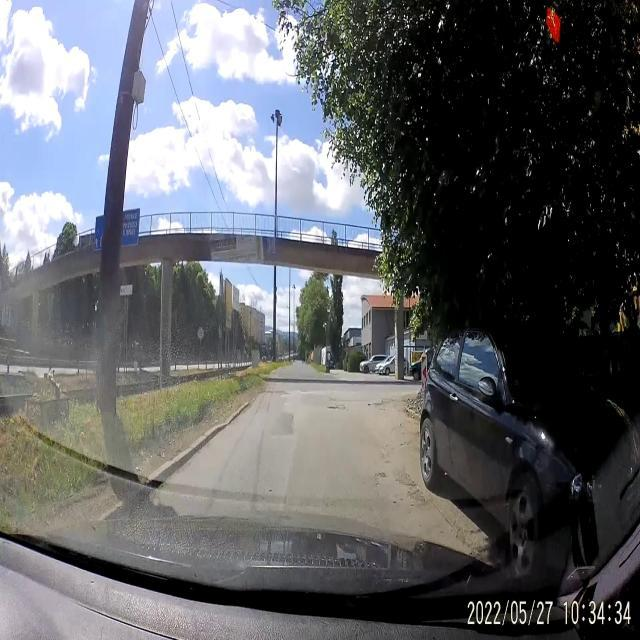Pothole: (371, 394, 396, 410), (372, 465, 389, 488), (262, 385, 290, 398), (406, 489, 429, 504), (397, 471, 415, 486), (326, 401, 346, 414), (400, 438, 413, 450)
